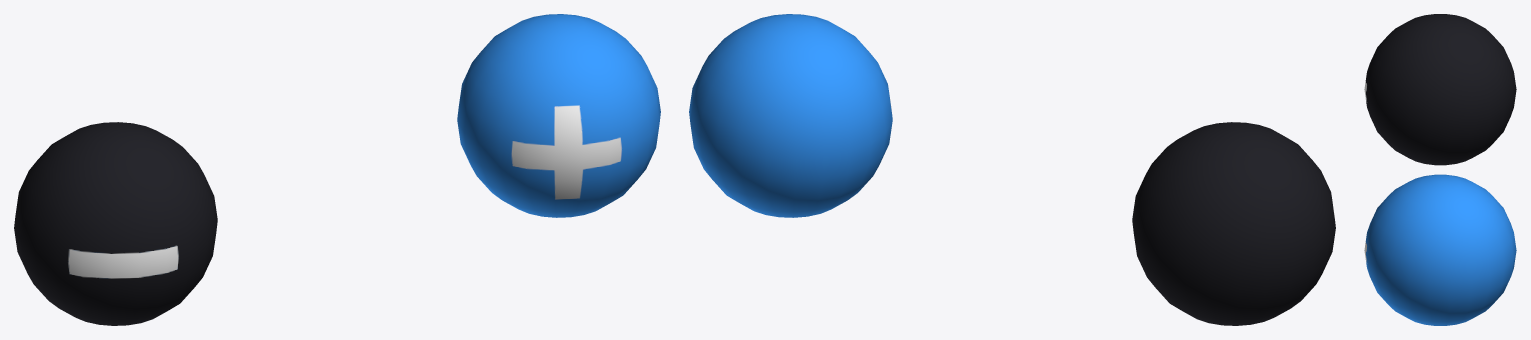
The model's file is hydrogen.glb.
3 views of the same model, side by side, from view 1: azimuth 30°, elevation 25°; view 2: azimuth 150°, elevation 25°; view 3: azimuth 270°, elevation 25° (orthographic). The views are drawn at different scales.
Visible parts, largest first — view 1: plus, minus; view 2: plus, minus; view 3: plus, minus.
Boxes of the visible parts, left/top/right/bottom form: plus: left=457, top=14, right=660, bottom=217; minus: left=14, top=122, right=217, bottom=325; plus: left=689, top=14, right=892, bottom=217; minus: left=1132, top=122, right=1335, bottom=325; plus: left=1364, top=174, right=1516, bottom=325; minus: left=1364, top=14, right=1516, bottom=165.
Size of the model in its own units: 6.98 by 2 by 2.
Materials: 2 (2 with a texture image).
